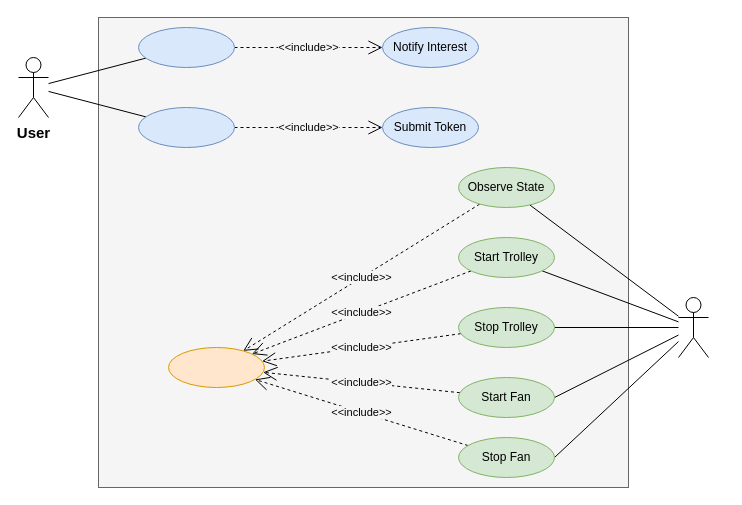
The diagram is 742 pixels wide and 505 high, and some of its shapes have lost their labels. The shapes that lost their labels are listed below. From the top down, each one's centre as x and y in pixels, then its label:
At [186,47]: "Car Enter".
At [186,127]: "Pickup Car".
At [693,327]: "Manager".
At [216,367]: "Identification".
